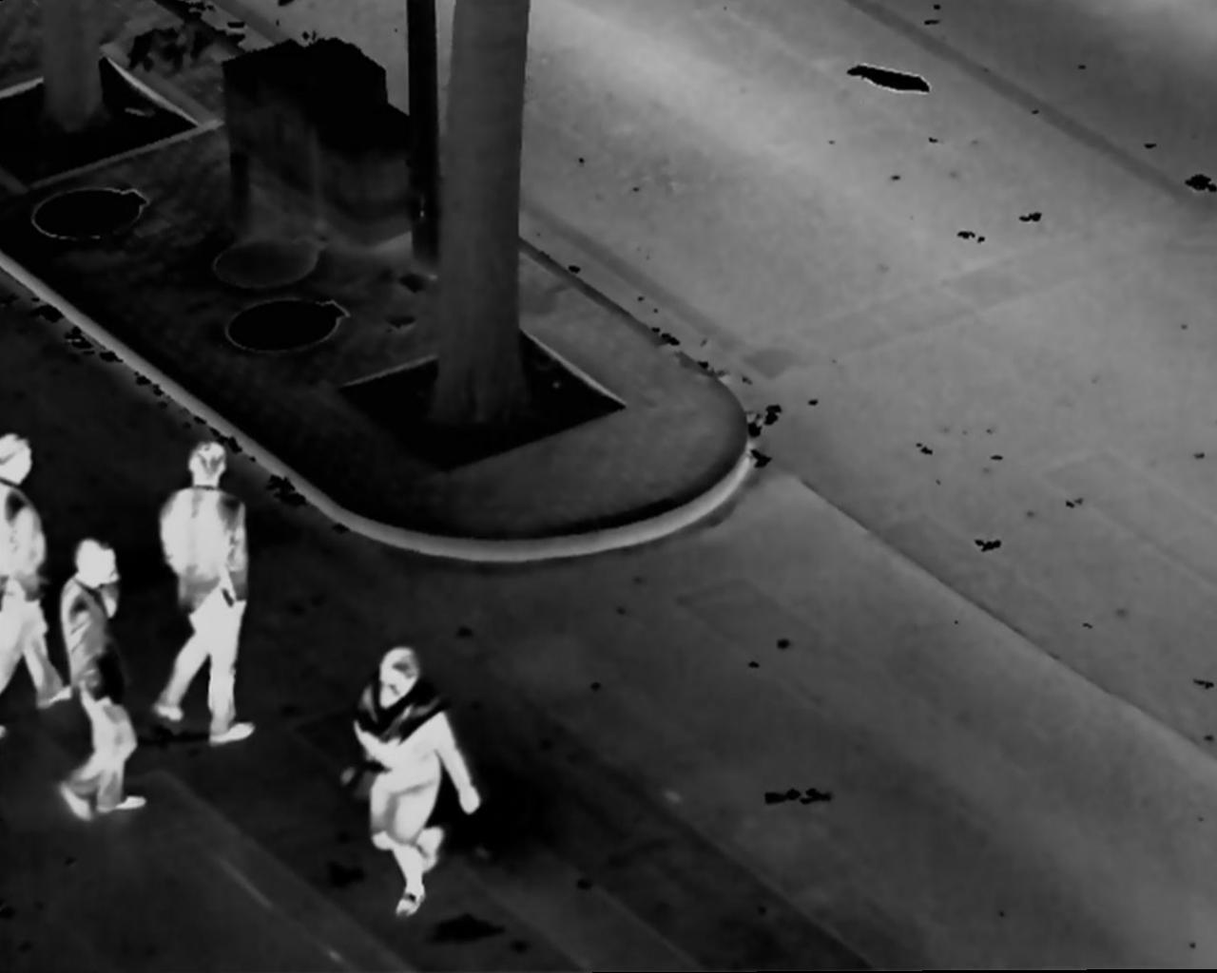person: (337, 640, 487, 923), (150, 439, 261, 746), (51, 533, 148, 828)
